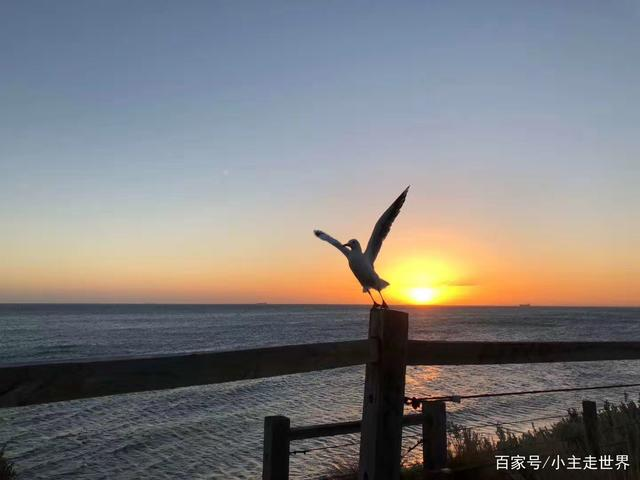bird: (303, 185, 410, 308)
